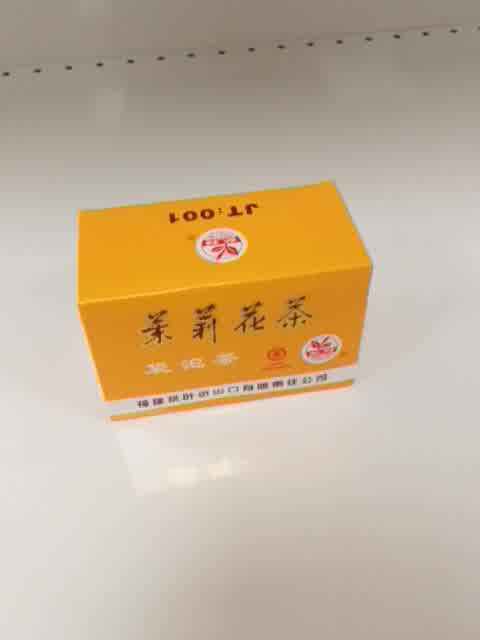jasminetea: (75, 181, 374, 423)
